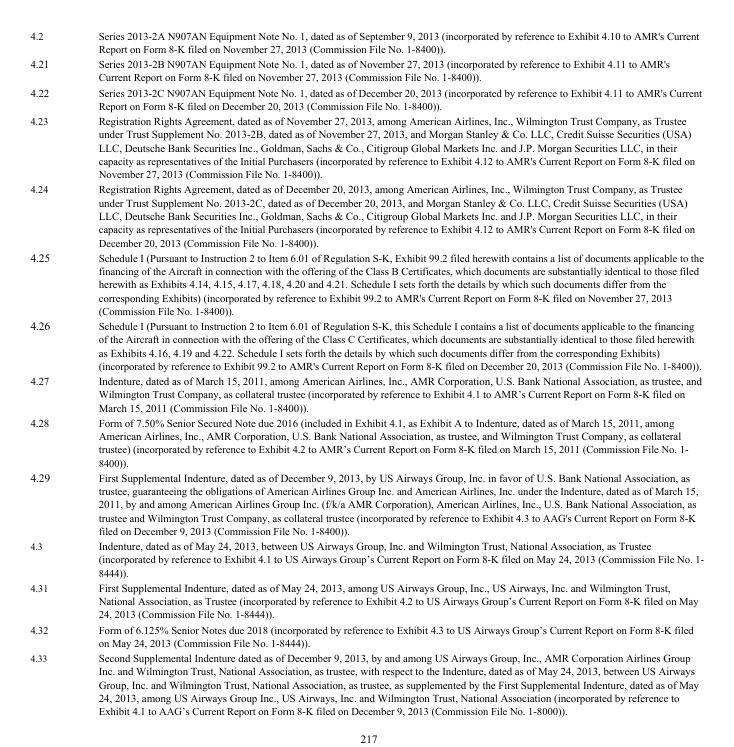table: (29, 29, 703, 716)
table column: (73, 29, 703, 716), (29, 29, 73, 716)
table row: (29, 112, 703, 181), (29, 181, 703, 249), (29, 249, 703, 317), (29, 469, 703, 537), (29, 649, 703, 716), (29, 317, 703, 372), (29, 414, 703, 469), (29, 372, 703, 414), (29, 537, 703, 579), (29, 579, 703, 621), (29, 55, 703, 84), (29, 84, 703, 112), (29, 621, 703, 649), (29, 29, 703, 55)
